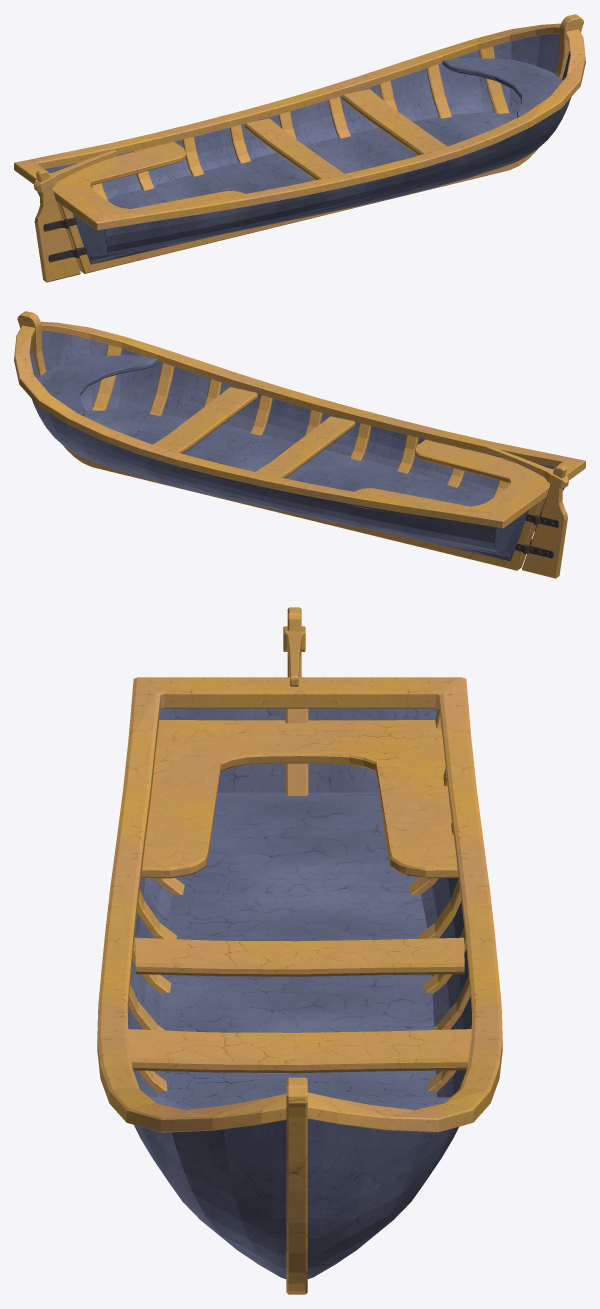
Rendered from Boat.fbx.
3 views of the same model, one above another, from view 1: azimuth 30°, elevation 25°; view 2: azimuth 150°, elevation 25°; view 3: azimuth 270°, elevation 25° (orthographic). The views are drawn at different scales.
Visible parts, largest first — view 1: Boat.Shape; view 2: Boat.Shape; view 3: Boat.Shape.
Boxes of the visible parts, left/top/right/bottom form: Boat.Shape: left=14, top=14, right=585, bottom=282; Boat.Shape: left=14, top=311, right=585, bottom=578; Boat.Shape: left=97, top=607, right=502, bottom=1294.
Bounding box in the file's own units: 632 × 150 × 203.
Materials: 3 (3 with a texture image).
